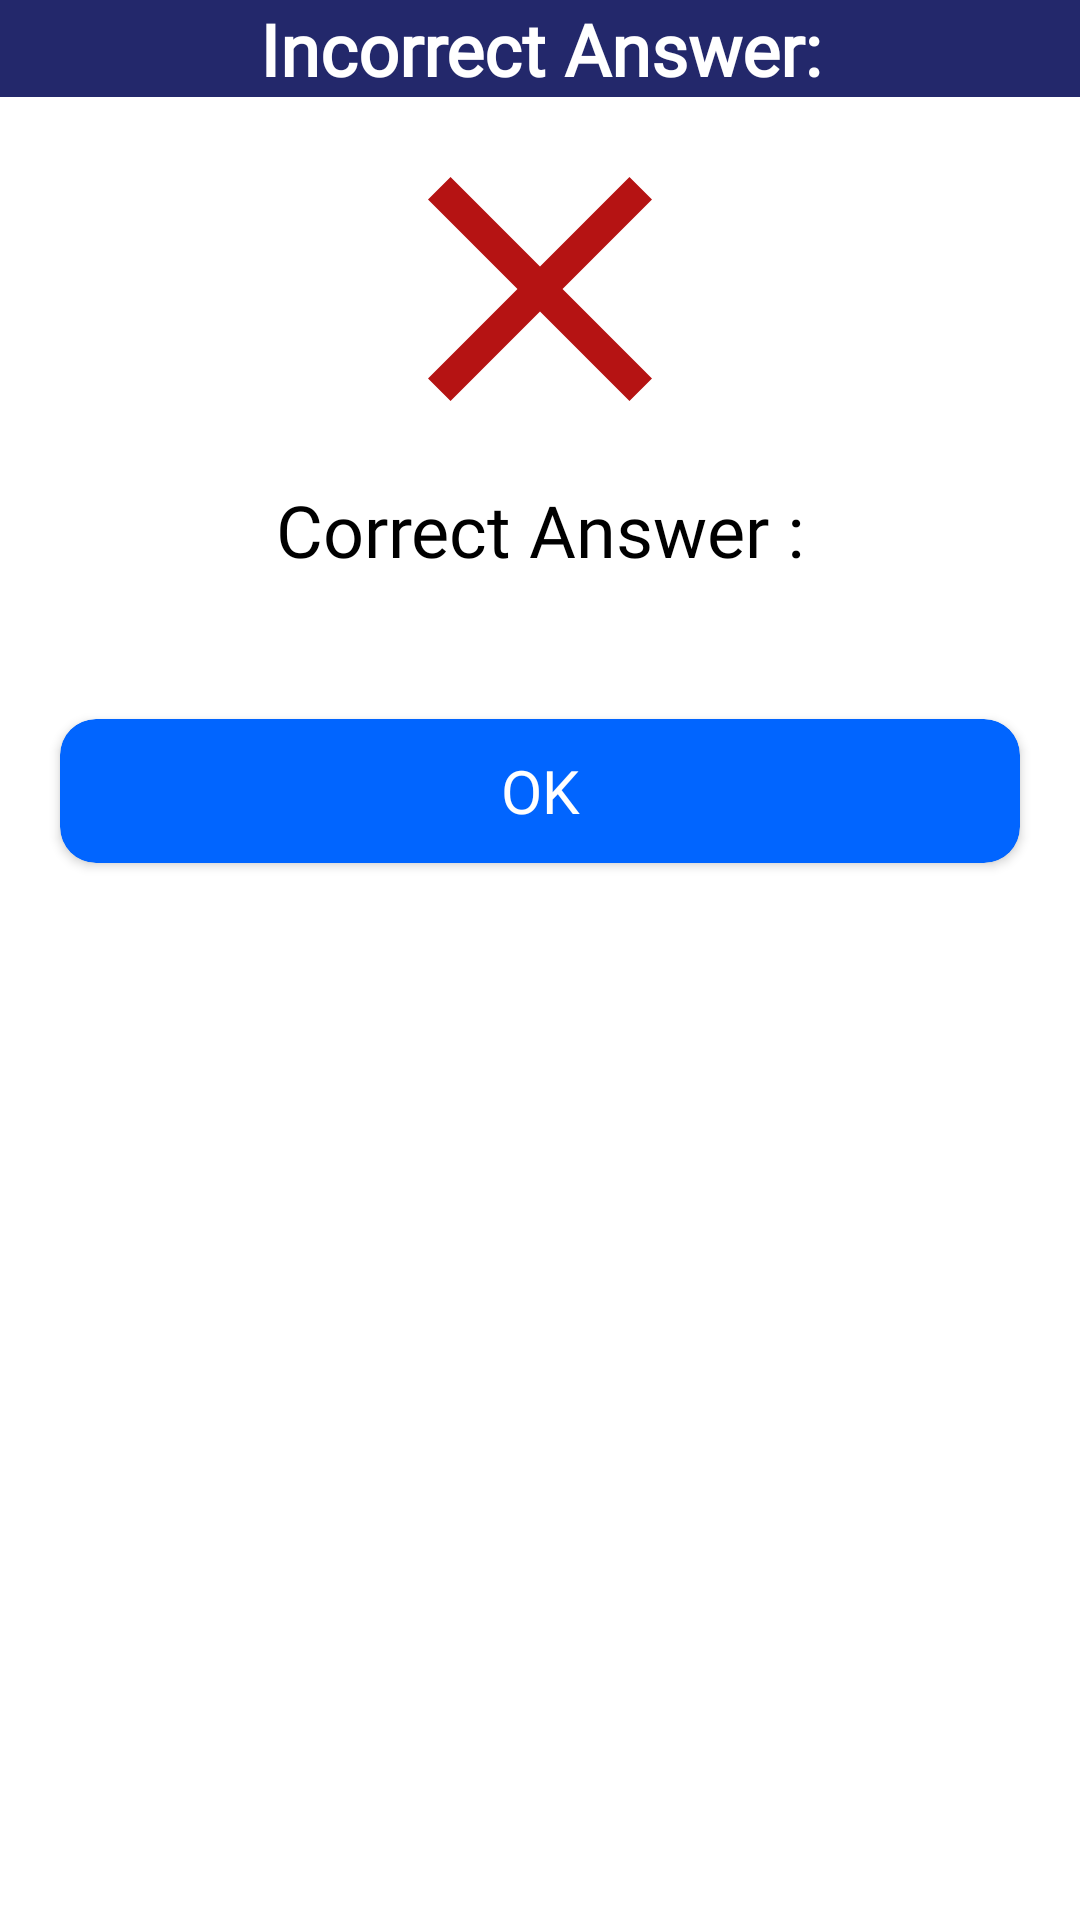

Icon bounding boxes for this 1080 × 1920 phone screenshot, format (x1=x1, y1=y1, x2=x2, y2=y2):
close: (x1=428, y1=177, x2=652, y2=401)
